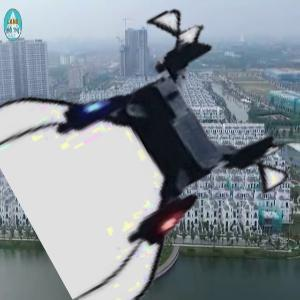drone: (12, 22, 278, 288)
